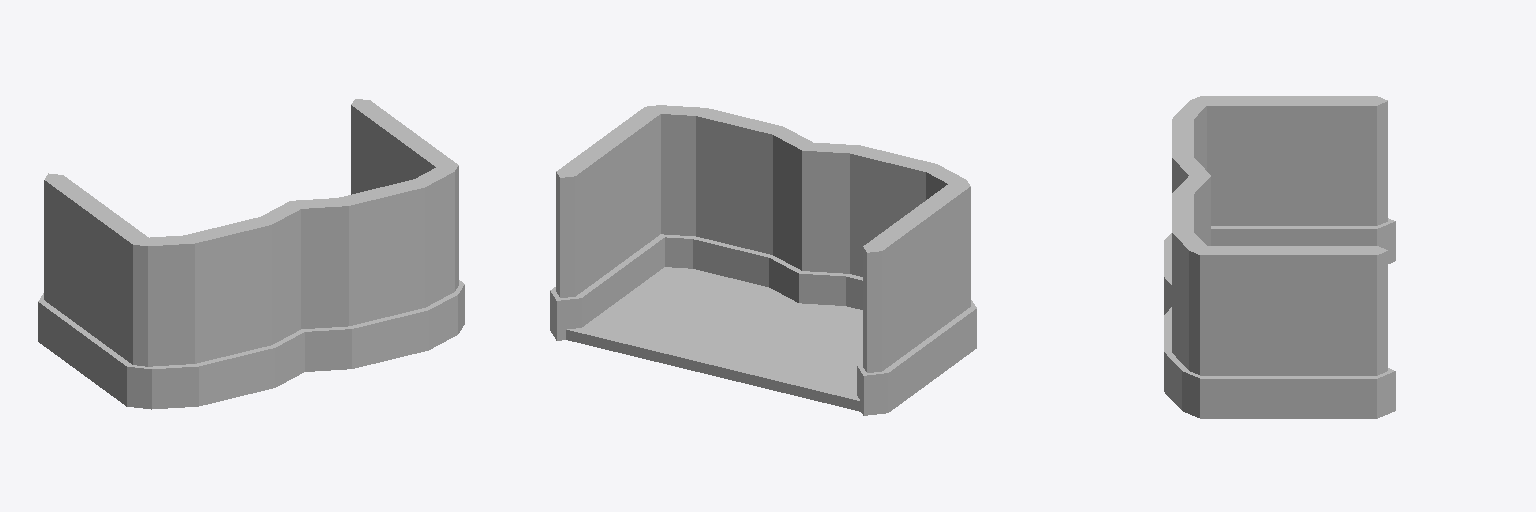
Rendered from hallway_end_02.obj.
The picture shows the model from 3 angles: view 1: azimuth 30°, elevation 25°; view 2: azimuth 150°, elevation 25°; view 3: azimuth 270°, elevation 25°; orthographic projection.
Visible parts, largest first — view 1: wall_03_79, wall_03_80, wall_01_82, wall_01_83; view 2: floor_04_76, wall_03_79, wall_01_82, wall_01_83, wall_03_80; view 3: wall_01_83, wall_01_82, wall_03_79, wall_03_80.
Boxes of the visible parts, x1=… form: wall_03_79: x1=287, y1=164, x2=464, y2=371; wall_03_80: x1=133, y1=201, x2=305, y2=408; wall_01_82: x1=38, y1=173, x2=152, y2=409; wall_01_83: x1=351, y1=99, x2=464, y2=333; floor_04_76: x1=566, y1=267, x2=862, y2=411; wall_03_79: x1=645, y1=105, x2=816, y2=302; wall_01_82: x1=857, y1=180, x2=976, y2=415; wall_01_83: x1=550, y1=105, x2=666, y2=340; wall_03_80: x1=798, y1=143, x2=976, y2=309; wall_01_83: x1=1182, y1=246, x2=1395, y2=418; wall_01_82: x1=1194, y1=96, x2=1395, y2=263; wall_03_79: x1=1164, y1=173, x2=1210, y2=417; wall_03_80: x1=1164, y1=96, x2=1212, y2=314.
Bounding box in the file's own units: 2.21 × 1 × 1.3.